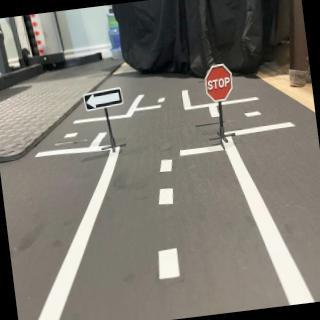sign_oneway_left: (84, 88, 126, 113)
sign_stop: (204, 65, 235, 103)
